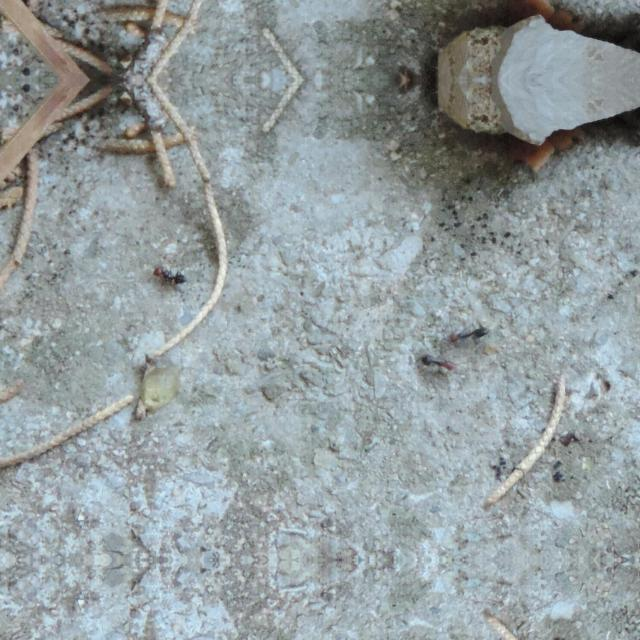Crematogaster: (446, 320, 496, 350), (150, 264, 192, 292), (420, 351, 460, 374)
